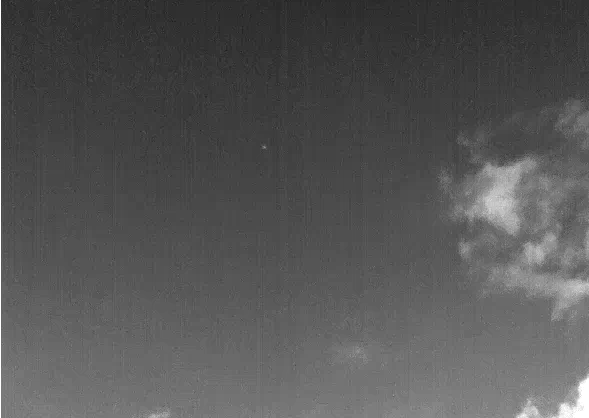dim target: (261, 145, 267, 150)
